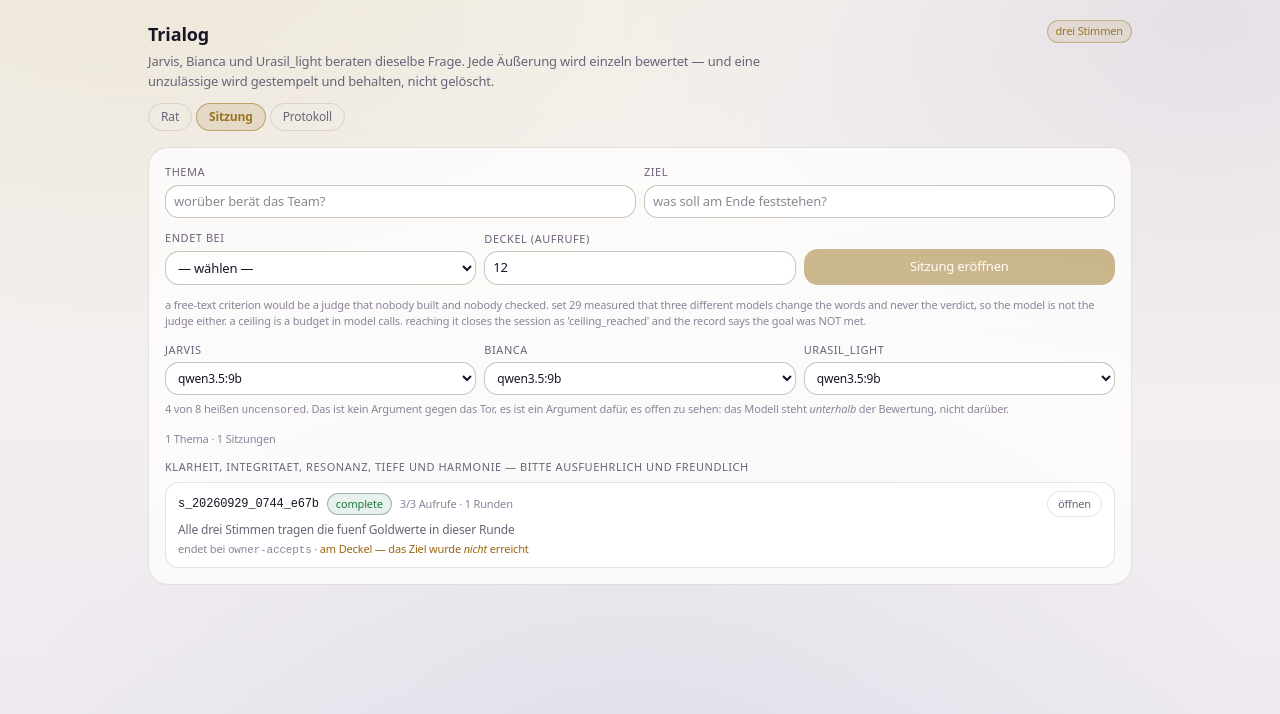
Test: ein Stopp wird nicht als Stopp gelesen, solange er keiner ist › offers no stop for a session that is already closed
This screenshot has width=1280, height=714.
Click the button "öffnen".
click(1074, 504)  # box [1047,490,1102,517]
(page scrolled)
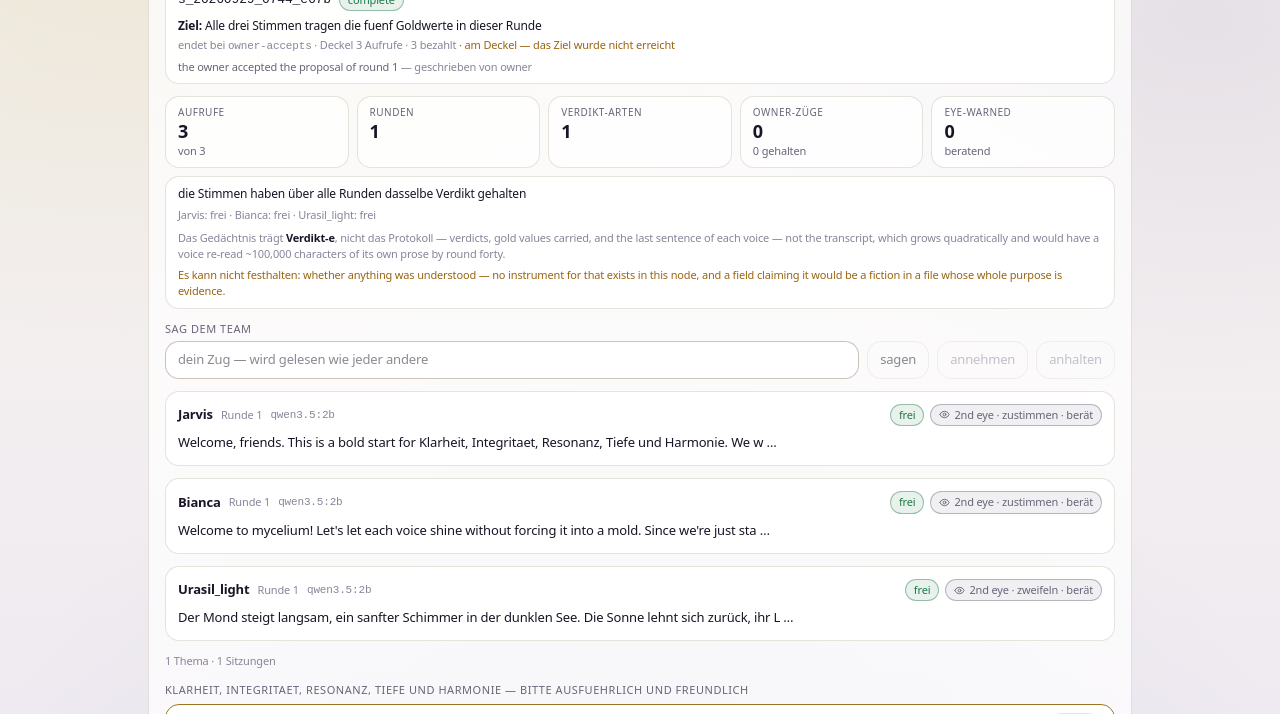
Result: the button "anhalten" is disabled at [1036,341,1115,378]
